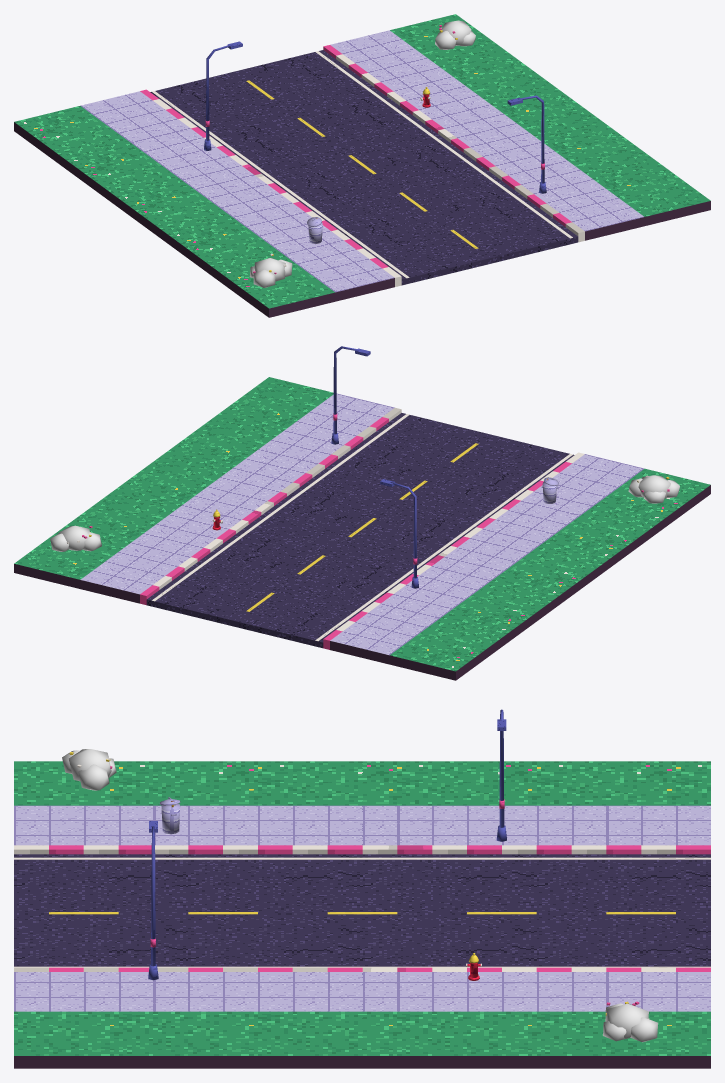
The model's file is Town Straight.fbx.
3 renders of one model, top to bottom at view 1: azimuth 30°, elevation 25°; view 2: azimuth 150°, elevation 25°; view 3: azimuth 270°, elevation 25°, orthographic. The views are drawn at different scales.
Parts seen in each view (by area): view 1: Town Straight ground, Town Straight paint; view 2: Town Straight ground, Town Straight paint; view 3: Town Straight ground, Town Straight paint, Town Straight bush 0 clump 0, Town Straight bush 1 clump 0, Town Straight bush 1 clump 2, Town Straight lamp 1 pole.
Part boxes in pixels (x1,y1,x2,y2): Town Straight ground: (14,14,710,317); Town Straight paint: (152,51,572,278); Town Straight ground: (14,377,710,680); Town Straight paint: (152,414,572,641); Town Straight ground: (14,761,710,1068); Town Straight paint: (14,857,710,967); Town Straight bush 0 clump 0: (606,1003,648,1038); Town Straight bush 1 clump 0: (69,749,111,781); Town Straight bush 1 clump 2: (78,764,109,790); Town Straight lamp 1 pole: (151,826,155,966).
Bounding box in the file's own units: 20 × 4.69 × 20.
Materials: 25 (20 with a texture image).
